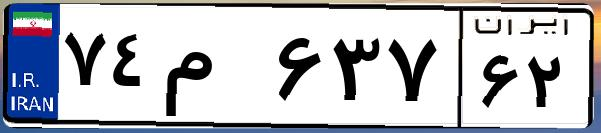2: (525, 38, 570, 115)
3: (330, 28, 385, 110)
4: (110, 28, 158, 98)
6: (270, 28, 330, 110), (475, 38, 525, 113)
7: (385, 28, 445, 110), (57, 26, 110, 100)
م: (158, 20, 270, 120)
